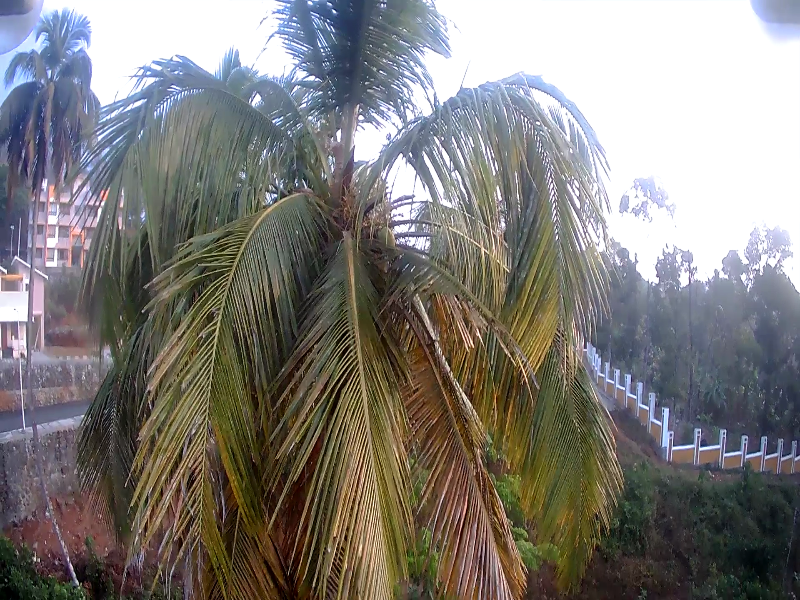coconut: (375, 227, 398, 252)
